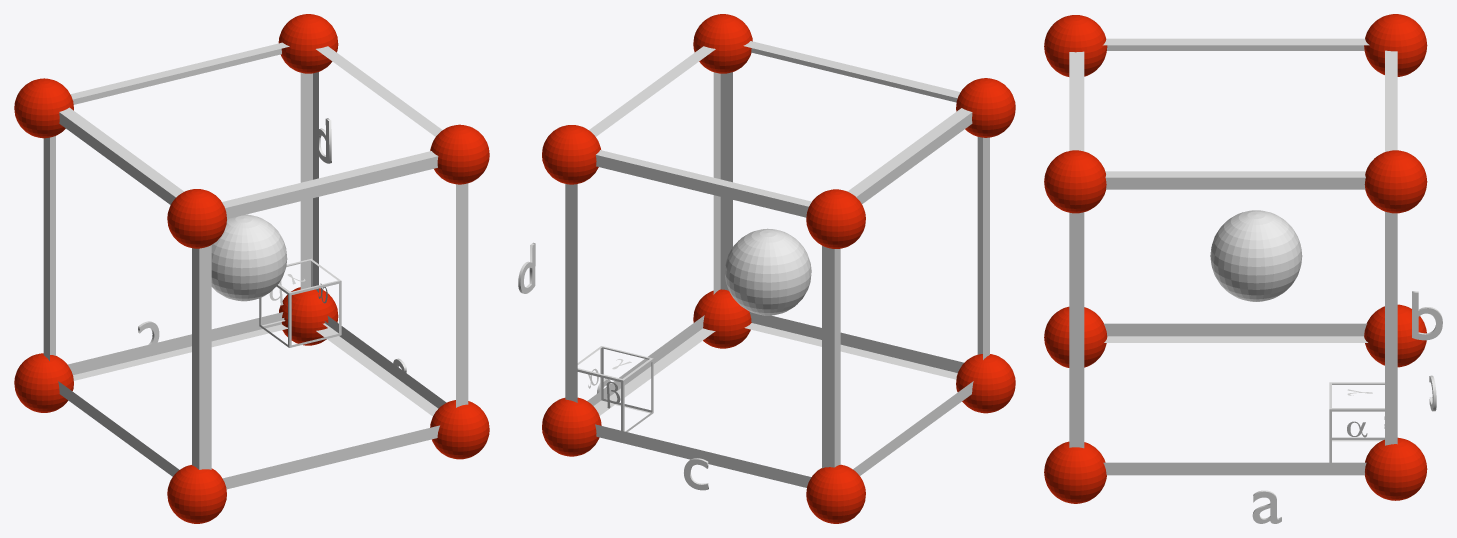
File: Cubique somet.fbx
3 renders of one model, left to right at view 1: azimuth 30°, elevation 25°; view 2: azimuth 150°, elevation 25°; view 3: azimuth 270°, elevation 25°, orthographic. The views are drawn at different scales.
Visible parts, largest first — view 1: Sphere; view 2: Sphere; view 3: Sphere.
Part boxes in pixels (x1,y1,x2,y2): Sphere: (14,14,489,523); Sphere: (518,14,1015,523); Sphere: (1044,14,1442,523).
Size of the model in its own units: 854 by 851 by 868.
